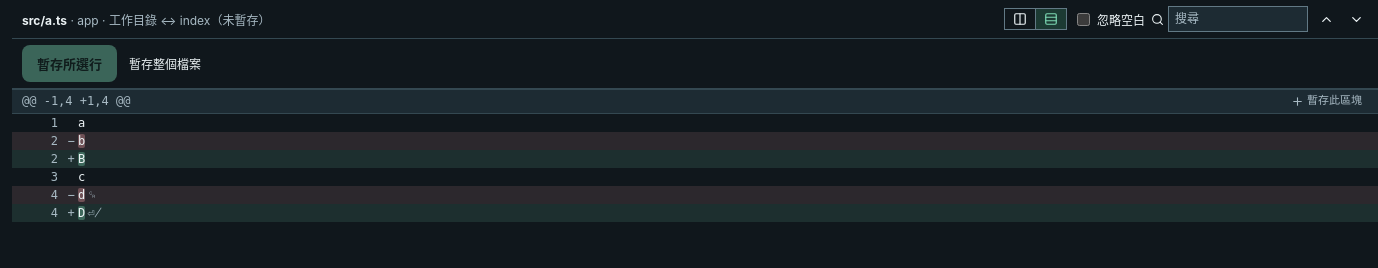
Test: DiffView partial staging › stages exactly the selected lines from the shown snapshot
Click the checkbox named "選取刪除第 4 行" at (38, 194), box [12, 186, 64, 204]
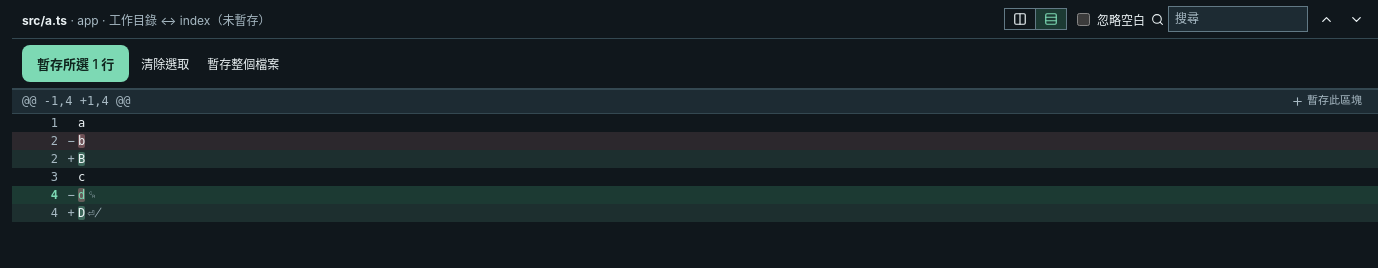
Click the checkbox named "選取新增第 4 行" at (38, 212), box [12, 204, 64, 222]
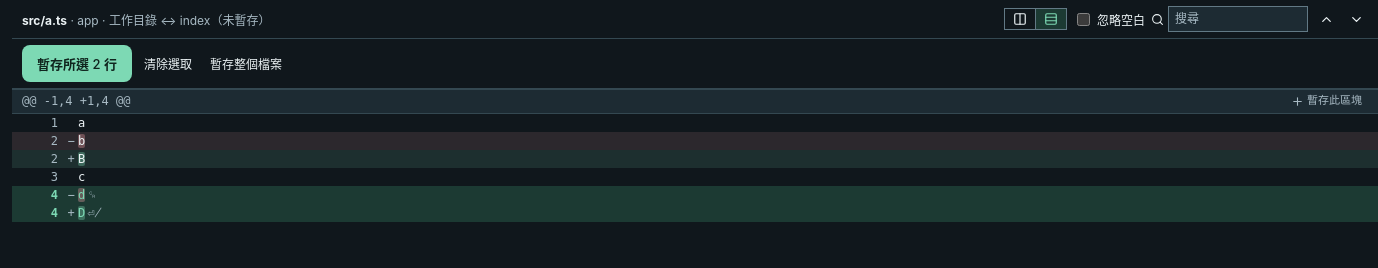
Expected: the text titled "CRLF 行尾" is shown, [87, 188, 97, 202]
Expected: the text titled "檔案結尾沒有換行" is shown, [85, 206, 102, 220]
Click the button "暫存所選 2 行" at (77, 64), box [22, 45, 132, 82]
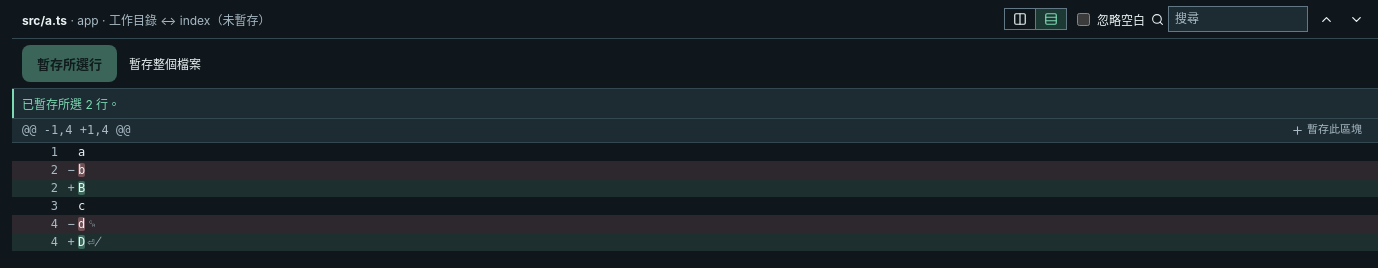
Expected: the text "已暫存所選 2 行。" is shown, [12, 89, 1377, 118]
